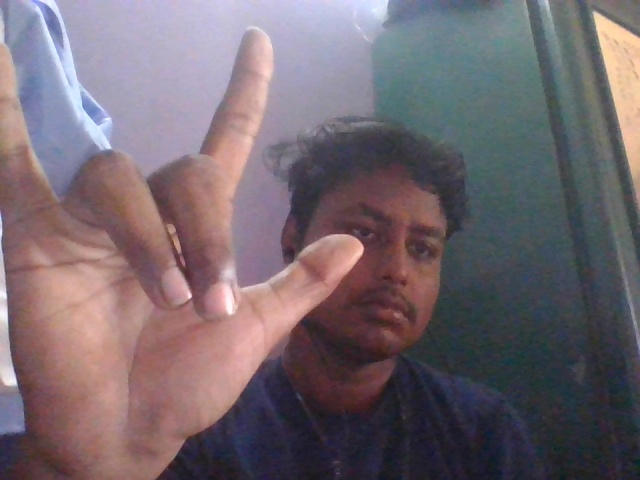iloveyou: (2, 29, 368, 458)
